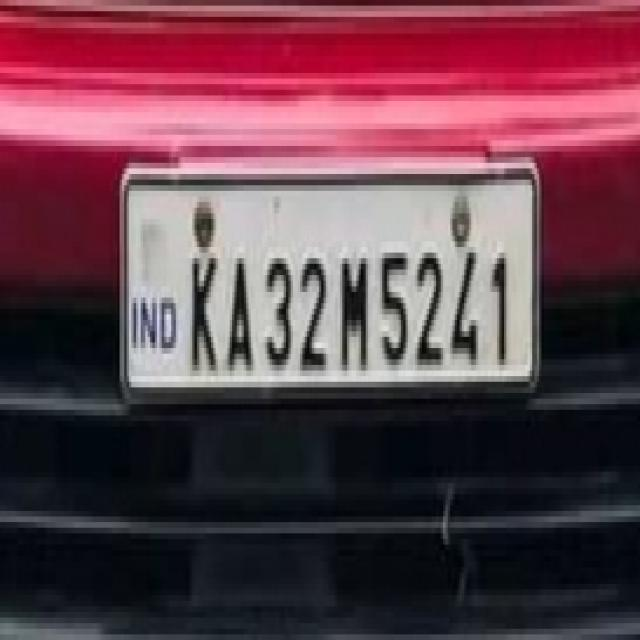1: (488, 243, 518, 373)
3: (259, 242, 295, 375)
4: (449, 232, 484, 372)
5: (379, 240, 410, 373)
A: (223, 239, 257, 381)
K: (188, 236, 222, 384)
M: (340, 240, 370, 379)
